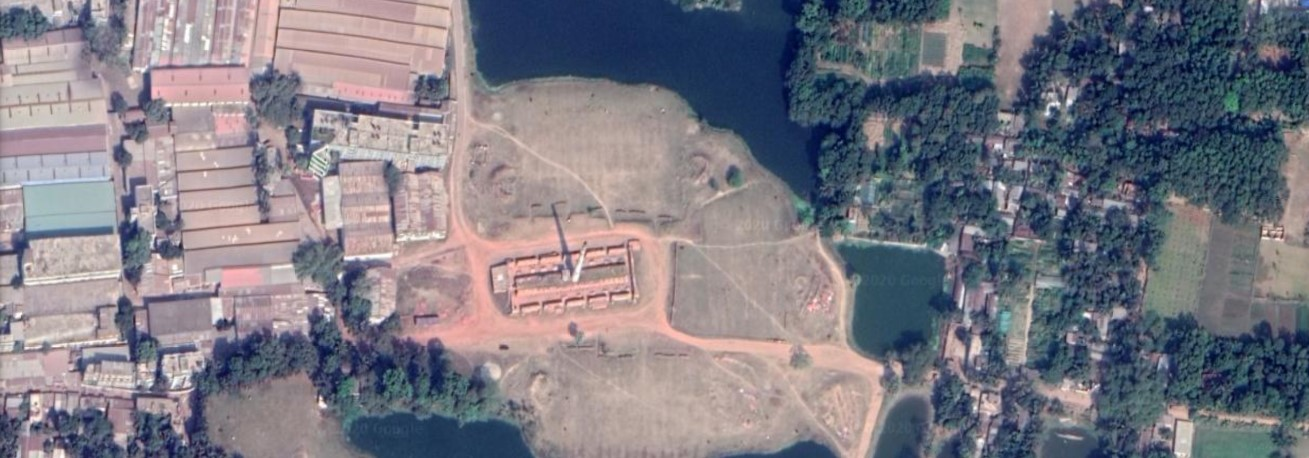kiln: (476, 222, 670, 317)
